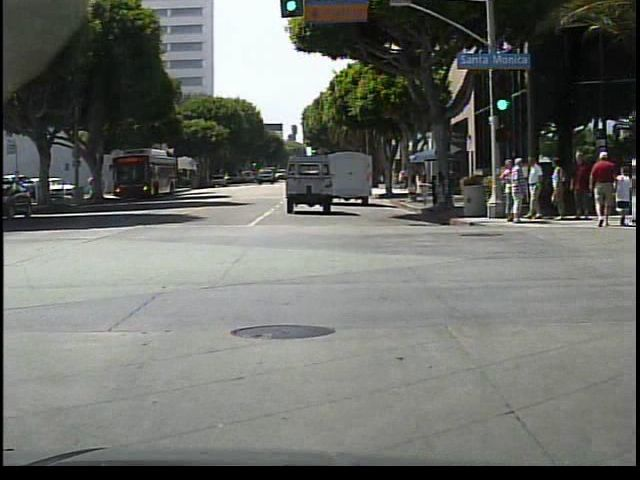person: (592, 149, 615, 231), (526, 157, 549, 229), (507, 158, 530, 227), (571, 151, 593, 221), (551, 159, 571, 226), (615, 166, 634, 226), (502, 160, 514, 224), (634, 162, 639, 226), (95, 176, 106, 201), (88, 175, 98, 199), (398, 170, 407, 193)
